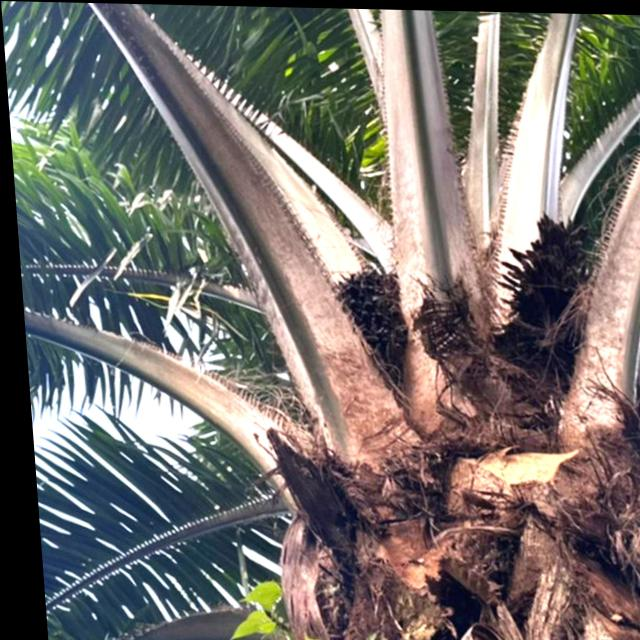unripe: (325, 260, 412, 378)
